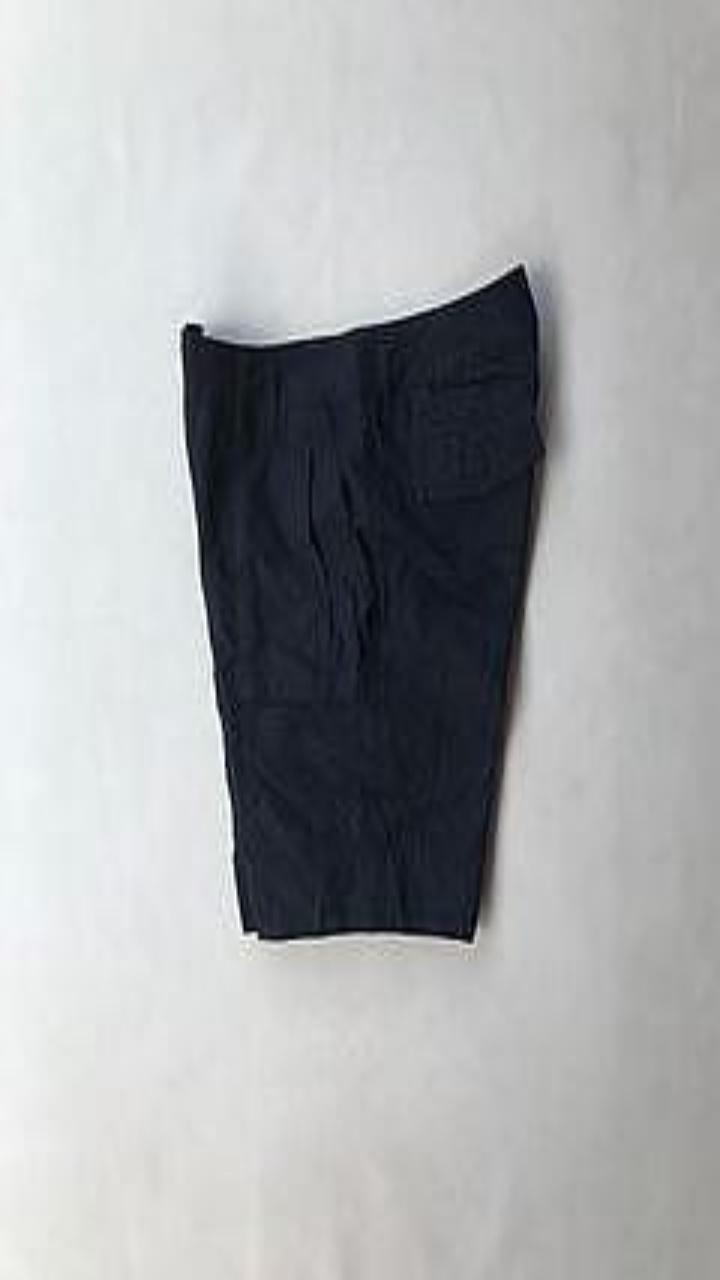Shorts: (182, 264, 544, 940)
